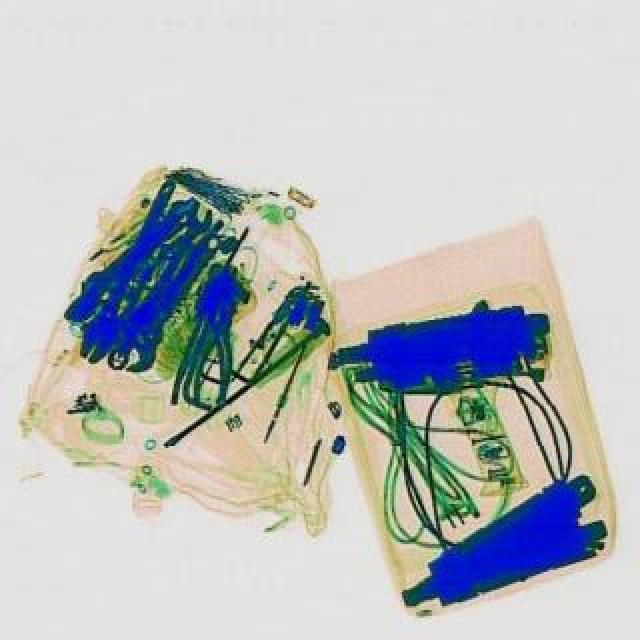scissors: (70, 170, 186, 366), (102, 220, 230, 380), (50, 198, 200, 324)
wrench: (184, 292, 248, 408)
